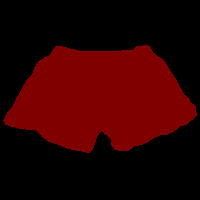mutande: (3, 44, 197, 153)
